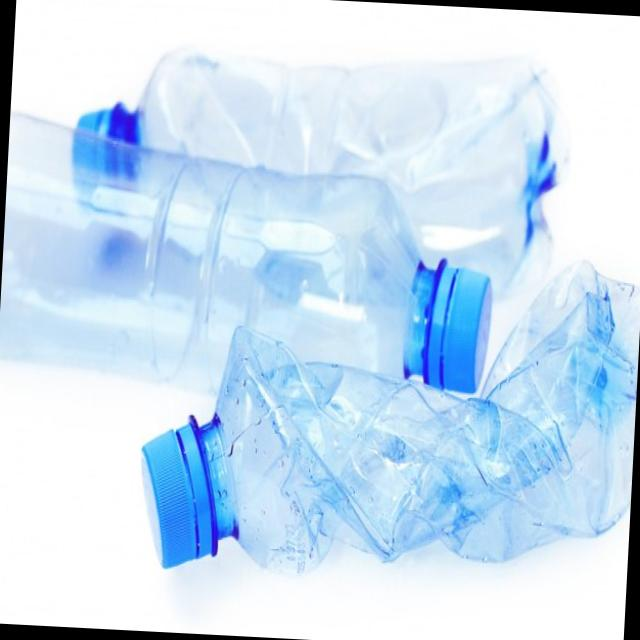plastic_bottle: (117, 238, 640, 606), (0, 89, 509, 426), (60, 40, 591, 320)
